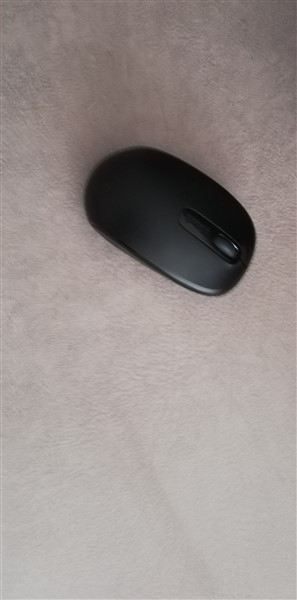mouse: (80, 137, 263, 301)
